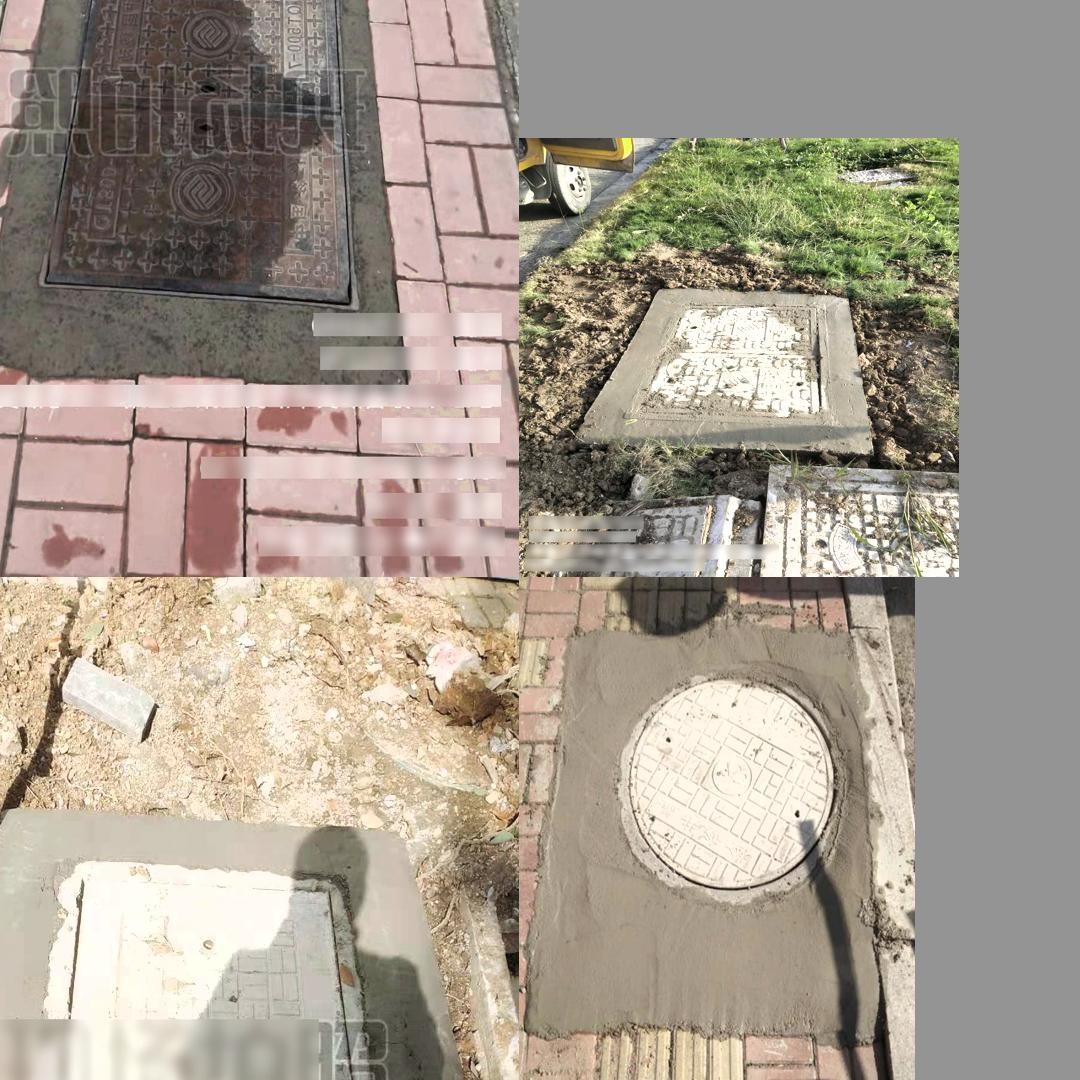good: (569, 639, 869, 1016), (39, 0, 359, 306), (5, 860, 397, 1080), (623, 303, 832, 425), (751, 463, 958, 577)
